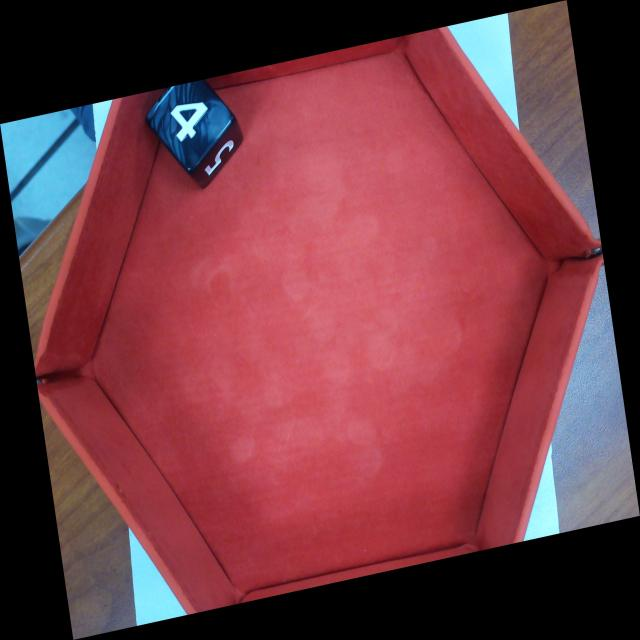dice: (141, 60, 234, 174)
